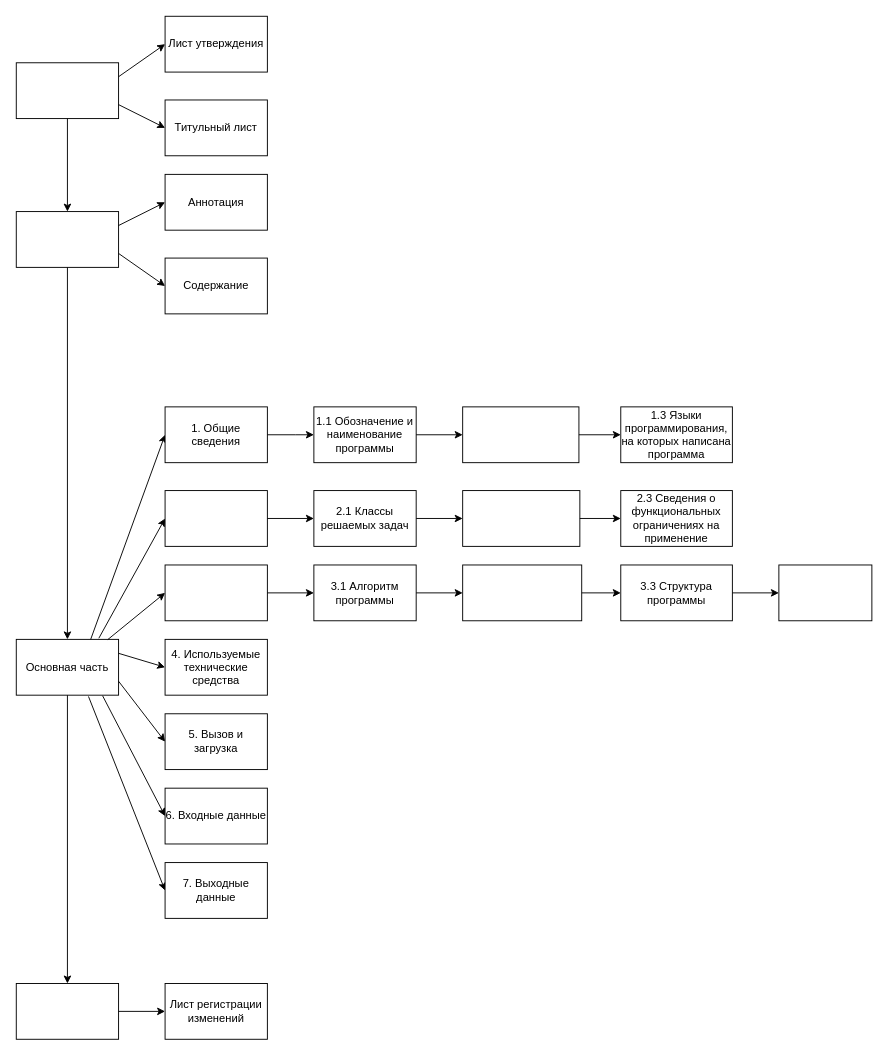
This 888x1056 diagram has some shape labels left out. The box of each missing label's shape, as (x1, y1, x2, y2) in pixels:
1.2 Программное обеспечение, необходимое для функционирования программы: (462, 406, 579, 463)
2. Функциональное назначение: (164, 490, 267, 546)
2.2 Назначение программы: (462, 490, 580, 546)
3. Описание логической структуры: (164, 564, 267, 621)
3.2 Используемые методы: (462, 564, 582, 621)
3.4 Связи программы с другими программами: (778, 564, 872, 621)
Информационная часть: (15, 211, 119, 267)
Титульная часть: (15, 62, 119, 119)
Часть регистрации изменений: (15, 983, 119, 1039)
